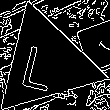L_N: (25, 35, 67, 91)
